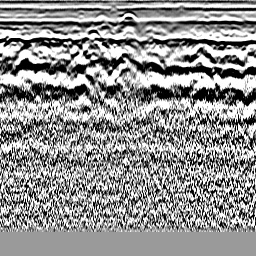cavity: (117, 11, 137, 26)
